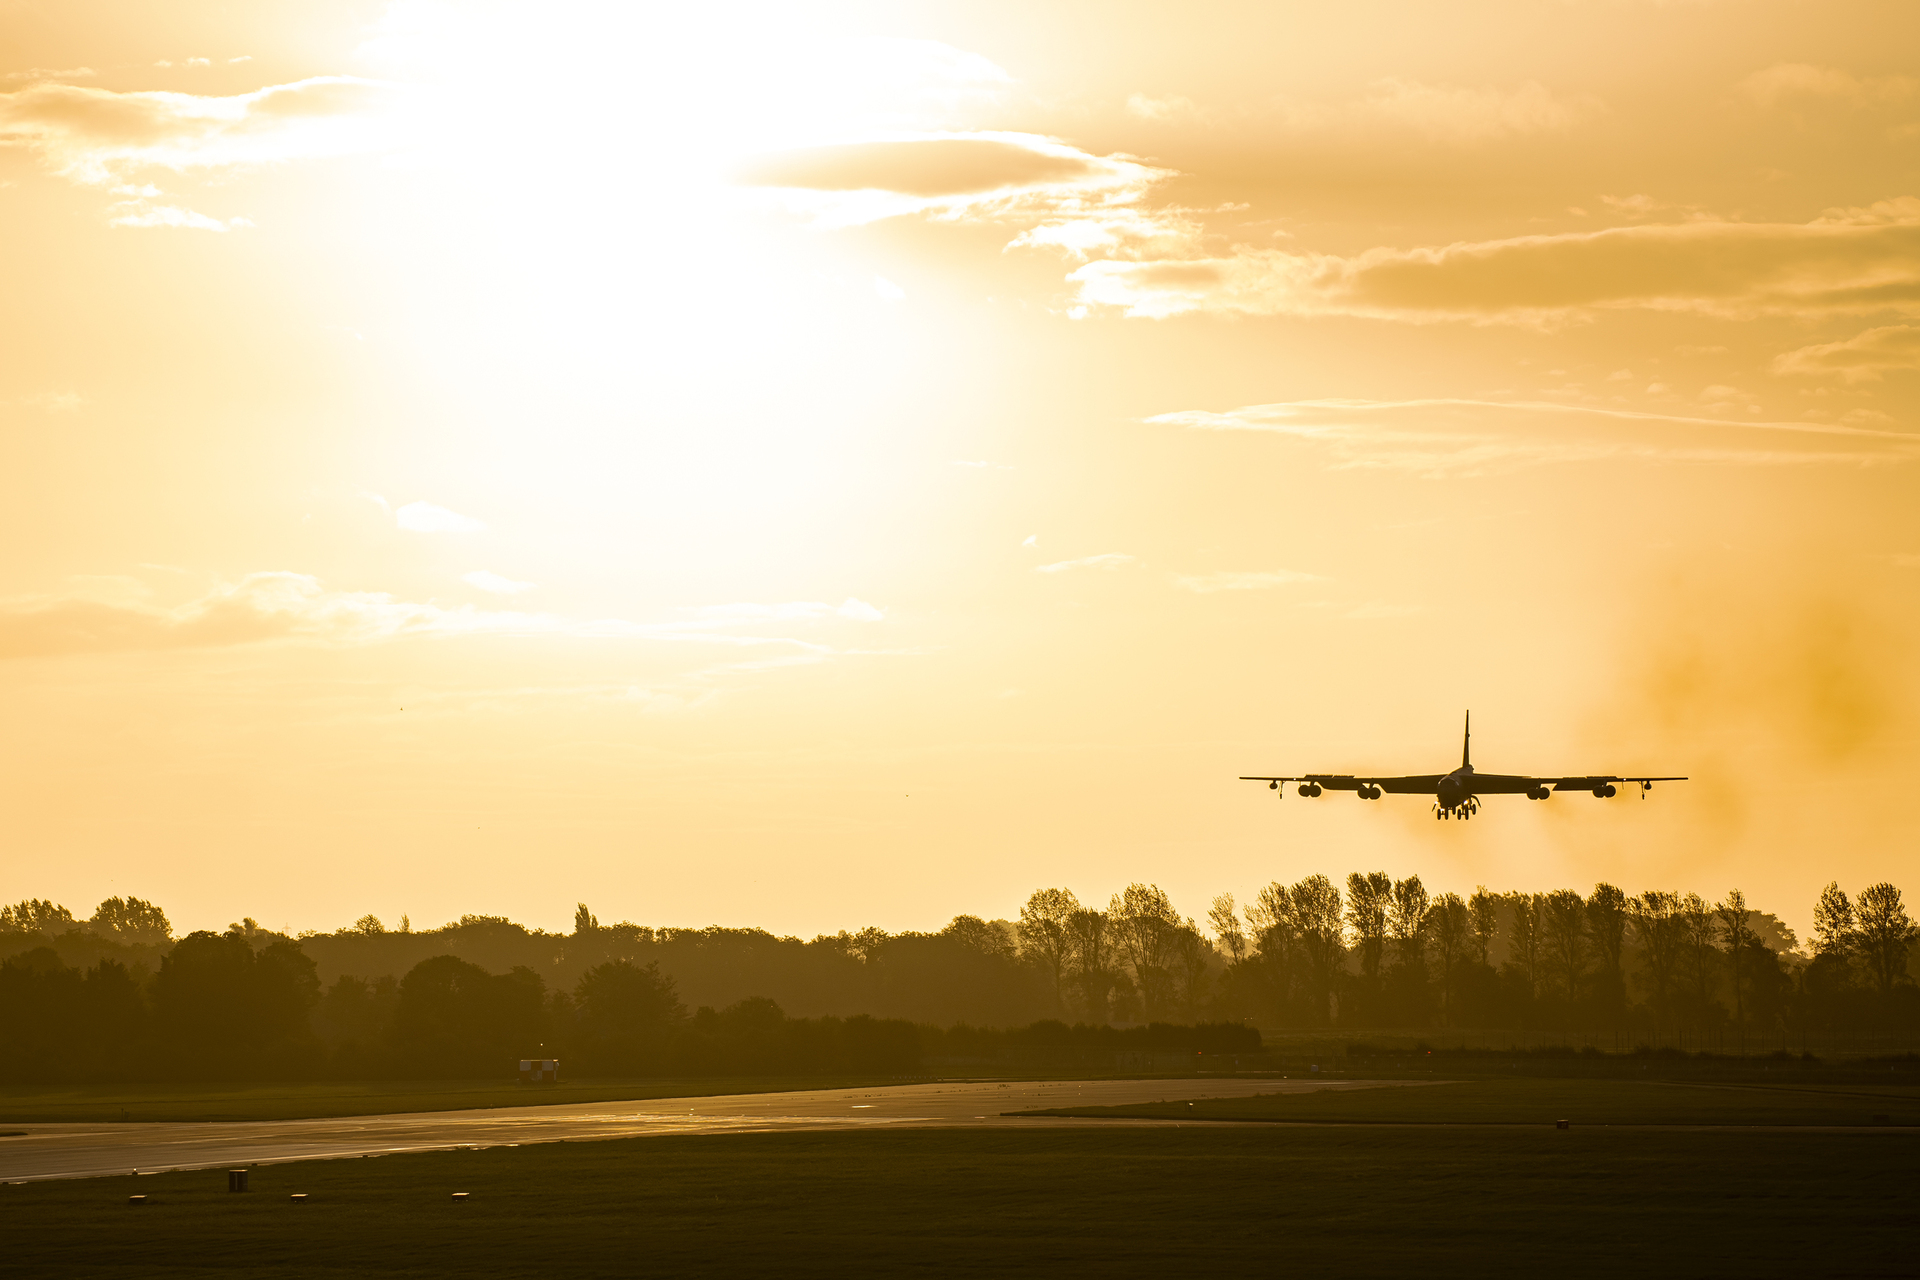B52: (1239, 709, 1689, 821)
